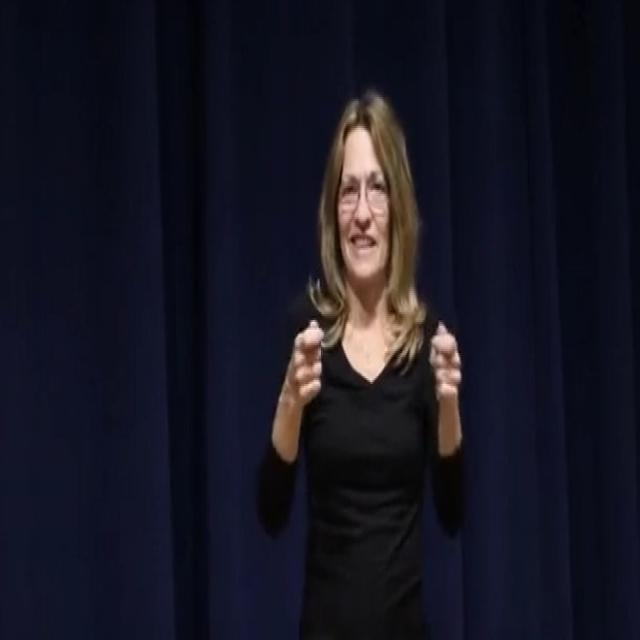manager: (248, 312, 476, 490)
